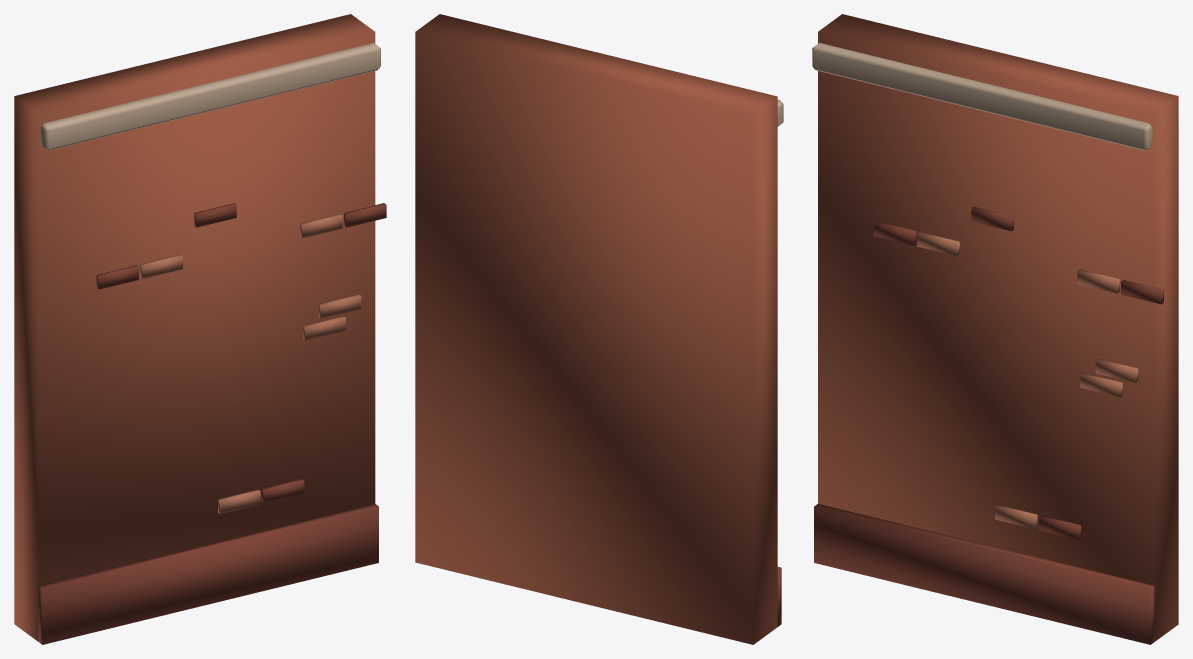
The model's file is wall_2m.glb.
3 views of the same model, side by side, from view 1: azimuth 30°, elevation 25°; view 2: azimuth 150°, elevation 25°; view 3: azimuth 330°, elevation 25° (orthographic).
Visible parts, largest first — view 1: wall_2m; view 2: wall_2m; view 3: wall_2m.
Boxes of the visible parts, x1,y1,x2,y2 form: wall_2m: (14,14,386,644); wall_2m: (415,14,783,644); wall_2m: (812,14,1178,644).
Bounding box in the file's own units: 2.05 × 3 × 0.33.
